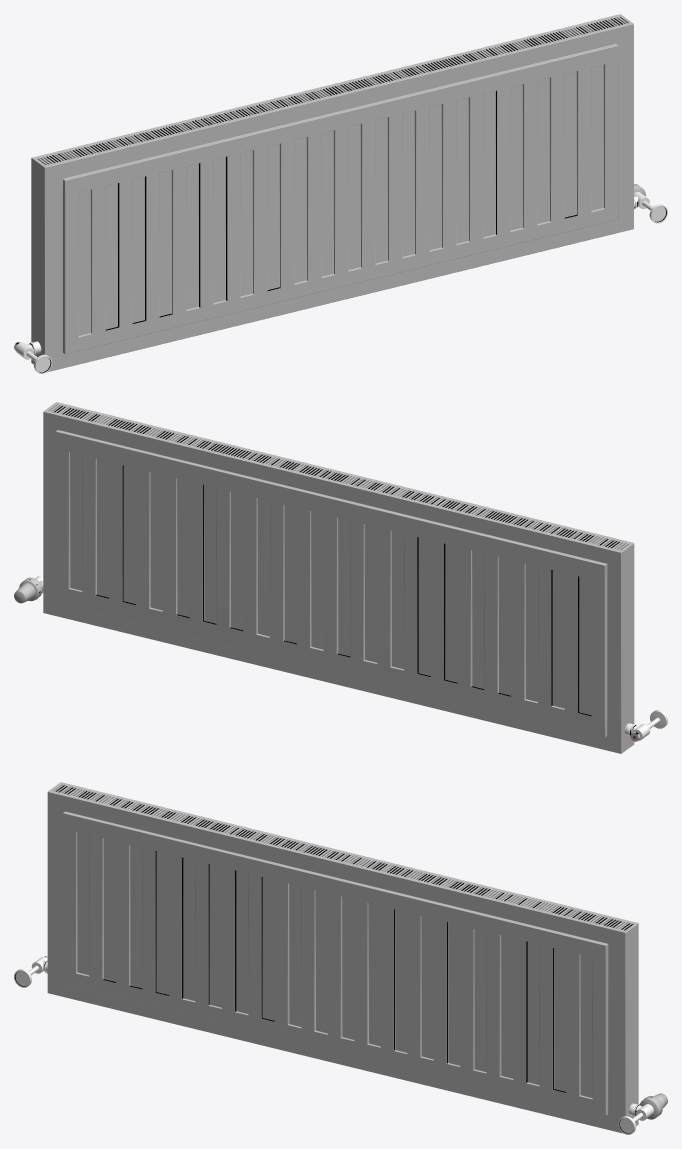
The model's file is Radiator.001.fbx.
The picture shows the model from 3 angles, top to bottom: view 1: azimuth 30°, elevation 25°; view 2: azimuth 150°, elevation 25°; view 3: azimuth 330°, elevation 25°; orthographic projection.
Parts seen in each view (by area): view 1: Radiator.001_Baked; view 2: Radiator.001_Baked; view 3: Radiator.001_Baked.
Part boxes in pixels (bbox=[...]): Radiator.001_Baked: bbox=[14, 14, 667, 373]; Radiator.001_Baked: bbox=[14, 402, 667, 753]; Radiator.001_Baked: bbox=[14, 782, 667, 1134].
Bounding box in the file's own units: 16.15 × 5 × 1.63.
